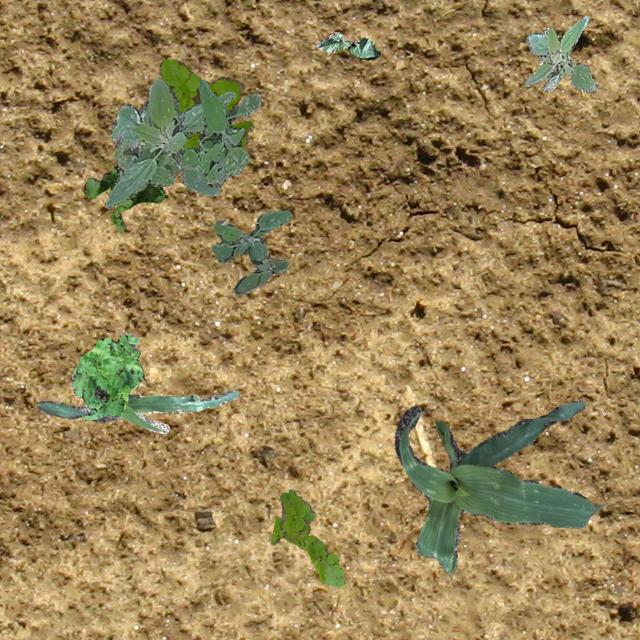crop: (393, 401, 602, 574), (103, 78, 234, 208), (36, 390, 238, 432), (316, 31, 378, 58)
weed: (173, 78, 260, 186), (158, 59, 252, 150), (270, 488, 344, 586), (210, 208, 290, 294), (70, 332, 142, 420), (82, 164, 166, 230), (524, 16, 596, 92)
